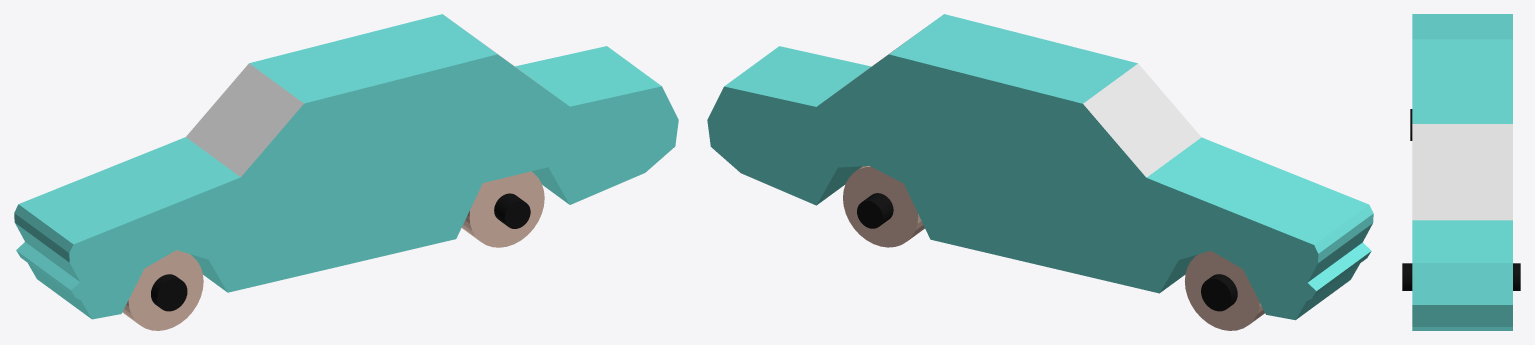
File: Car.fbx
3 views of the same model, side by side, from view 1: azimuth 30°, elevation 25°; view 2: azimuth 150°, elevation 25°; view 3: azimuth 270°, elevation 25° (orthographic). The views are drawn at different scales.
Visible parts, largest first — view 1: Cube; view 2: Cube; view 3: Cube.
Boxes of the visible parts, x1,y1,x2,y2 form: Cube: [14, 14, 678, 330]; Cube: [707, 14, 1373, 330]; Cube: [1402, 14, 1520, 330].
Bounding box in the file's own units: 466 × 146 × 85.55.
